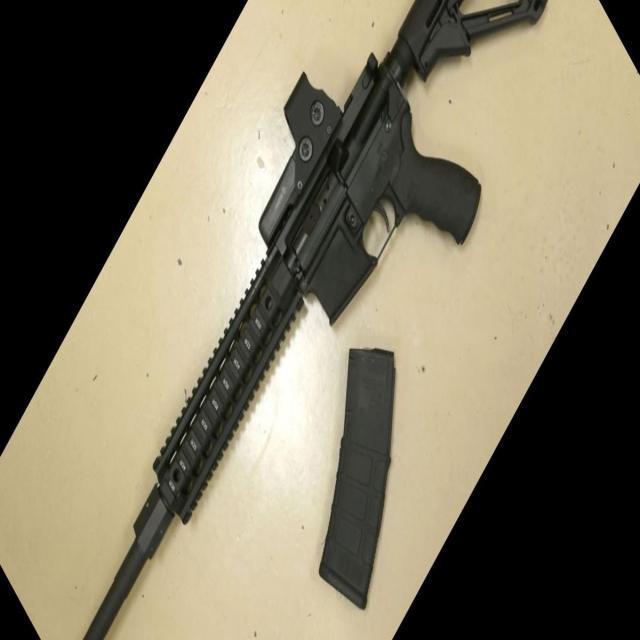weapon: (84, 1, 546, 640)
